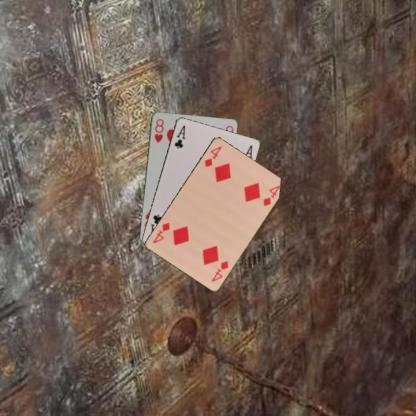4d: (202, 143, 223, 168), (209, 258, 230, 282)
8h: (151, 116, 165, 144)
Ac: (172, 122, 186, 150)
